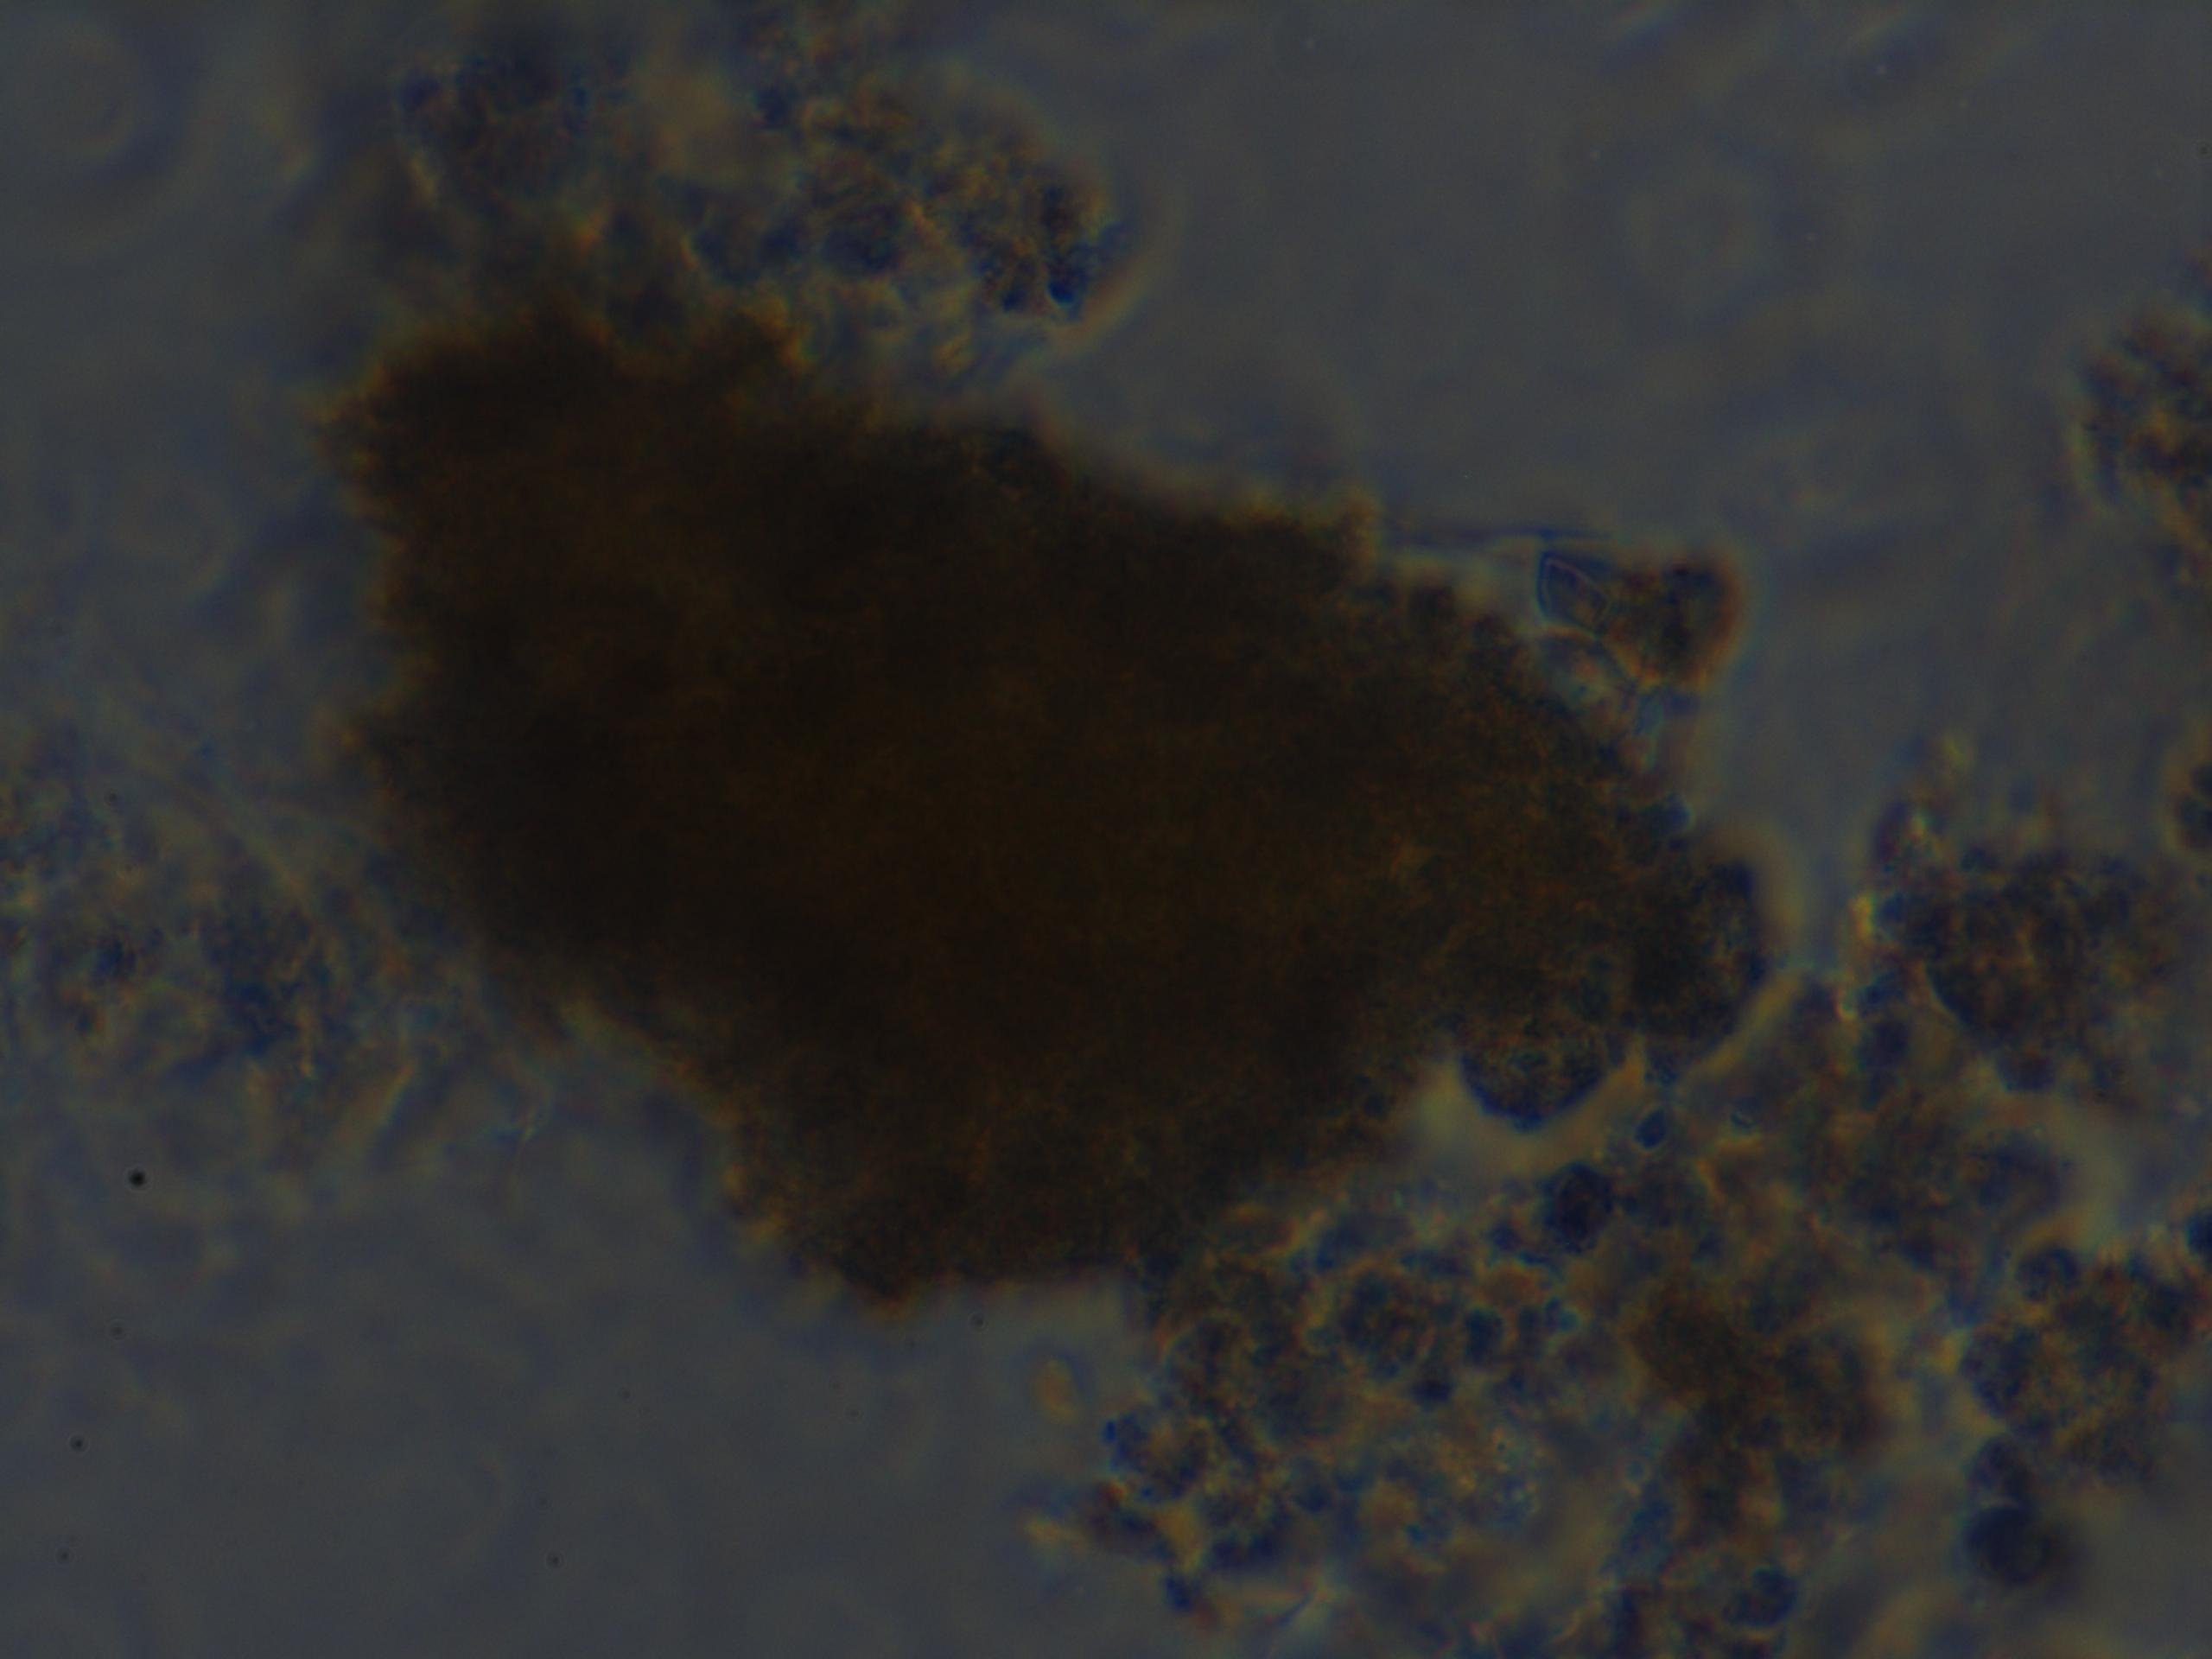spherical_floc: (338, 319, 1773, 1310)
